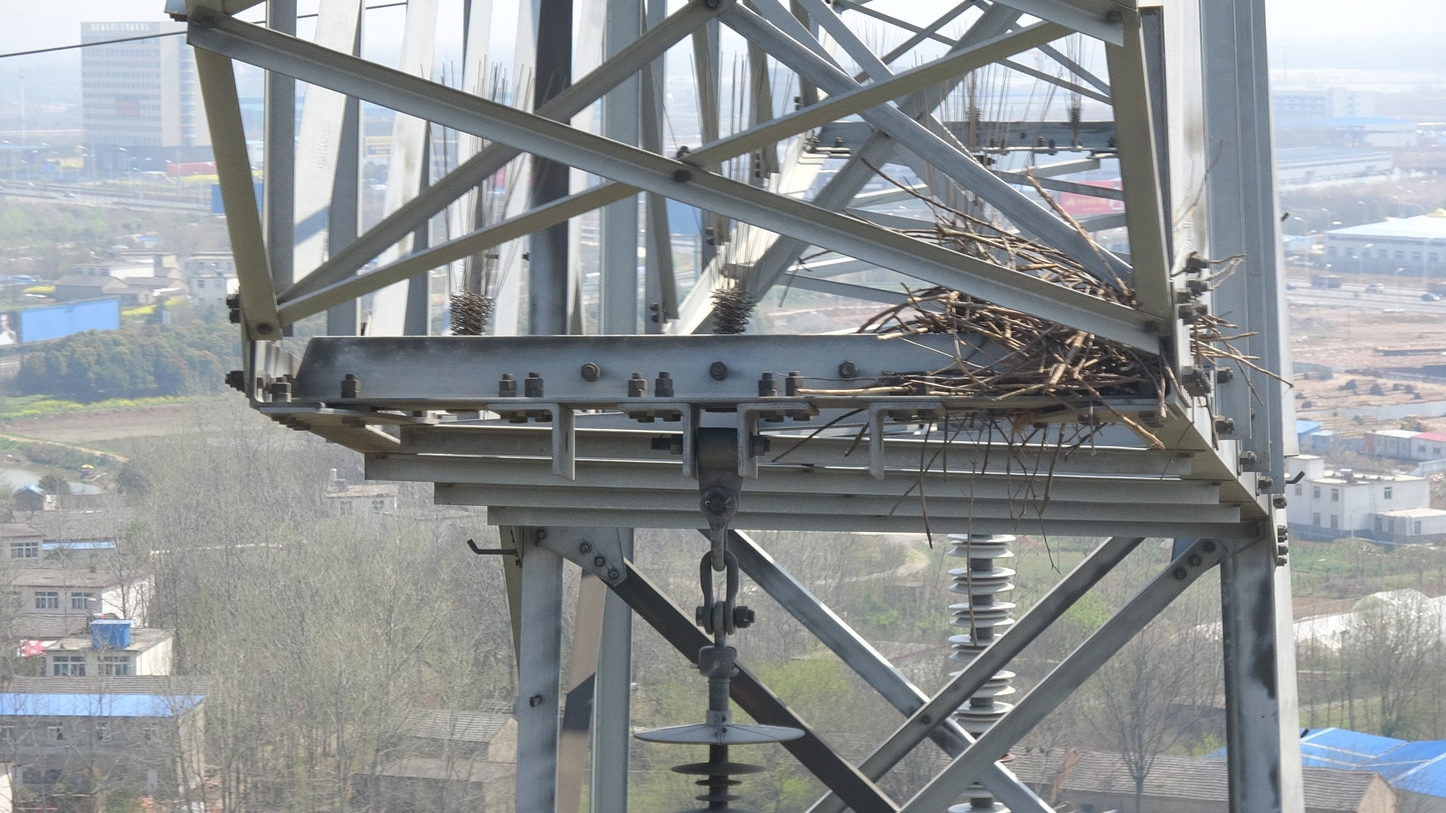insulator: (935, 528, 1023, 813), (666, 753, 771, 813)
